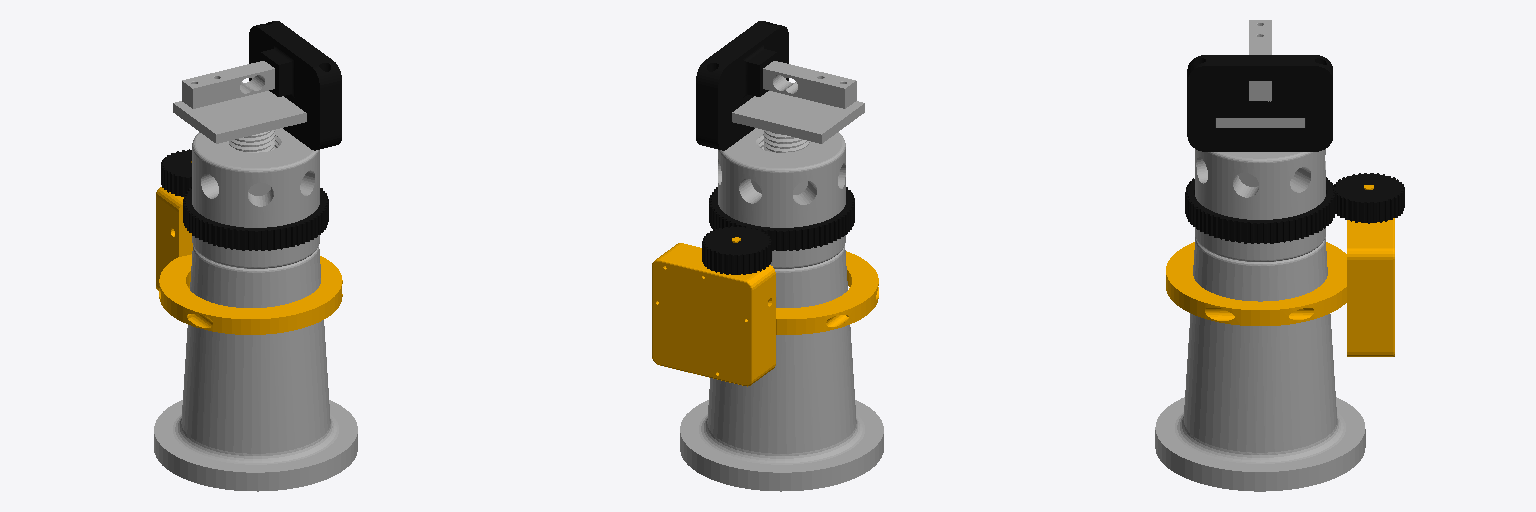
The robot description file, URDF, robot "jack":

<robot name="jack" >

<link name="base_link">
  <inertial>
    <origin xyz="0.0030071865378406538 0.00014154788942299552 0.05591757888982463" rpy="0 0 0"/>
    <mass value="4.632745962530948"/>
    <inertia ixx="0.009676" iyy="0.009676" izz="0.005056" ixy="0.0" iyz="0.0" ixz="-0.0"/>
  </inertial>
  <visual>
    <origin xyz="0 0 0" rpy="0 0 0"/>
    <geometry>
      <mesh filename="./meshes/base_link.stl" scale="0.001 0.001 0.001"/>
    </geometry>
   <material name="silver">
  <color rgba="0.700 0.700 0.700 1.000"/>
</material>
  </visual>
  <collision>
    <origin xyz="0 0 0" rpy="0 0 0"/>
    <geometry>
      <mesh filename="./meshes/base_link.stl" scale="0.001 0.001 0.001"/>
    </geometry>
  </collision>
</link>

<link name="head_1">
  <inertial>
    <origin xyz="-1.77956820907434e-06 1.1441140199030988e-06 0.03063938447984857" rpy="0 0 0"/>
    <mass value="1.5495145241048947"/>
    <inertia ixx="0.001131" iyy="0.001131" izz="0.001195" ixy="-0.0" iyz="-0.0" ixz="-0.0"/>
  </inertial>
  <visual>
    <origin xyz="-0.003007 -0.000142 -0.132021" rpy="0 0 0"/>
    <geometry>
      <mesh filename="./meshes/head_1.stl" scale="0.001 0.001 0.001"/>
    </geometry>
   <material name="silver">
  <color rgba="0.700 0.700 0.700 1.000"/>
</material>
  </visual>
  <collision>
    <origin xyz="-0.003007 -0.000142 -0.132021" rpy="0 0 0"/>
    <geometry>
      <mesh filename="./meshes/head_1.stl" scale="0.001 0.001 0.001"/>
    </geometry>
  </collision>
</link>

<link name="screw_1">
  <inertial>
    <origin xyz="-0.0031033581934499896 0.196039434773979 0.14856469037947262" rpy="0 0 0"/>
    <mass value="0.7567949663178379"/>
    <inertia ixx="0.002474" iyy="0.002516" izz="0.000156" ixy="0.0" iyz="-1e-06" ixz="5e-06"/>
  </inertial>
  <visual>
    <origin xyz="-0.006014 0.19588 -0.001163" rpy="0 0 0"/>
    <geometry>
      <mesh filename="./meshes/screw_1.stl" scale="0.001 0.001 0.001"/>
    </geometry>
   <material name="silver">
  <color rgba="0.700 0.700 0.700 1.000"/>
</material>
  </visual>
  <collision>
    <origin xyz="-0.006014 0.19588 -0.001163" rpy="0 0 0"/>
    <geometry>
      <mesh filename="./meshes/screw_1.stl" scale="0.001 0.001 0.001"/>
    </geometry>
  </collision>
</link>

<link name="bull_gear_1">
  <inertial>
    <origin xyz="-0.0030068134621596887 0.13402154788942292 0.15150819039459762" rpy="0 0 0"/>
    <mass value="0.014071732363726169"/>
    <inertia ixx="1.1e-05" iyy="1.1e-05" izz="2.2e-05" ixy="0.0" iyz="0.0" ixz="0.0"/>
  </inertial>
  <visual>
    <origin xyz="-0.006014 0.13388 -0.001163" rpy="0 0 0"/>
    <geometry>
      <mesh filename="./meshes/bull_gear_1.stl" scale="0.001 0.001 0.001"/>
    </geometry>
  <material name="black">
  <color rgba="0.1 0.1 0.1 1.000"/>
</material>
  </visual>
  <collision>
    <origin xyz="-0.006014 0.13388 -0.001163" rpy="0 0 0"/>
    <geometry>
      <mesh filename="./meshes/bull_gear_1.stl" scale="0.001 0.001 0.001"/>
    </geometry>
  </collision>
</link>

<link name="pinion_gear_1">
  <inertial>
    <origin xyz="-0.058654699221435534 -0.0005762682736991168 -0.13916623482795912" rpy="0 0 0"/>
    <mass value="0.015611687834022035"/>
    <inertia ixx="2e-06" iyy="2e-06" izz="3e-06" ixy="0.0" iyz="0.0" ixz="0.0"/>
  </inertial>
  <visual>
    <origin xyz="-0.059619 -0.061736 -0.293892" rpy="0 0 0"/>
    <geometry>
      <mesh filename="./meshes/pinion_gear_1.stl" scale="0.001 0.001 0.001"/>
    </geometry>
   <material name="black">
  <color rgba="0.1 0.1 0.1 1.000"/>
</material>
  </visual>
  <collision>
    <origin xyz="-0.059619 -0.061736 -0.293892" rpy="0 0 0"/>
    <geometry>
      <mesh filename="./meshes/pinion_gear_1.stl" scale="0.001 0.001 0.001"/>
    </geometry>
  </collision>
</link>

<link name="sensor_1">
  <inertial>
    <origin xyz="0.0036287929269774154 0.1692092556548879 0.10603625338614514" rpy="0 0 0"/>
    <mass value="0.6833126827436713"/>
    <inertia ixx="0.00126" iyy="0.000709" izz="0.001565" ixy="-0.000147" iyz="-6e-05" ixz="-1.3e-05"/>
  </inertial>
  <visual>
    <origin xyz="-0.006014 0.13388 -0.001163" rpy="0 0 0"/>
    <geometry>
      <mesh filename="./meshes/sensor_1.stl" scale="0.001 0.001 0.001"/>
    </geometry>
   <material name="yellow">
  <color rgba="1.0 0.700 0.0 1.000"/>
</material>
  </visual>
  <collision>
    <origin xyz="-0.006014 0.13388 -0.001163" rpy="0 0 0"/>
    <geometry>
      <mesh filename="./meshes/sensor_1.stl" scale="0.001 0.001 0.001"/>
    </geometry>
  </collision>
</link>

<link name="load_cell_holder_1">
  <inertial>
    <origin xyz="-0.00809316093830615 -3.896582473705639e-08 0.005959800511437602" rpy="0 0 0"/>
    <mass value="0.060378076940754415"/>
    <inertia ixx="4.7e-05" iyy="1.6e-05" izz="3.4e-05" ixy="-0.0" iyz="-0.0" ixz="0.0"/>
  </inertial>
  <visual>
    <origin xyz="-0.040039 -0.000234 -0.222021" rpy="0 0 0"/>
    <geometry>
      <mesh filename="./meshes/load_cell_holder_1.stl" scale="0.001 0.001 0.001"/>
    </geometry>
   <material name="black">
   <color rgba="0.1 0.1 0.1 1.000"/>
</material>
  </visual>
  <collision>
    <origin xyz="-0.040039 -0.000234 -0.222021" rpy="0 0 0"/>
    <geometry>
      <mesh filename="./meshes/load_cell_holder_1.stl" scale="0.001 0.001 0.001"/>
    </geometry>
  </collision>
</link>

<link name="load_cell_1">
  <inertial>
    <origin xyz="-0.03787910394686526 0.01611896104433127 -0.010349809605404992" rpy="0 0 0"/>
    <mass value="0.029241655696833388"/>
    <inertia ixx="1e-06" iyy="1.8e-05" izz="1.8e-05" ixy="0.0" iyz="0.0" ixz="-0.0"/>
  </inertial>
  <visual>
    <origin xyz="-0.037451 0.015885 -0.248871" rpy="0 0 0"/>
    <geometry>
      <mesh filename="./meshes/load_cell_1.stl" scale="0.001 0.001 0.001"/>
    </geometry>
   <material name="silver">
  <color rgba="0.700 0.700 0.700 1.000"/>
</material>
  </visual>
  <collision>
    <origin xyz="-0.037451 0.015885 -0.248871" rpy="0 0 0"/>
    <geometry>
      <mesh filename="./meshes/load_cell_1.stl" scale="0.001 0.001 0.001"/>
    </geometry>
  </collision>
</link>

<joint name="head" type="revolute">
  <origin xyz="0.003007 0.000142 0.132021" rpy="0 0 0"/>
  <parent link="base_link"/>
  <child link="head_1"/>
  <axis xyz="0.0 0.0 -1.0"/>
   <limit upper="100000" lower="" effort="100" velocity="100"/>
</joint>

<joint name="screw" type="prismatic">
  <origin xyz="0.003007 -0.196022 00.0" rpy="0 0 0"/>
  <parent link="base_link"/>
  <child link="screw_1"/>
  <axis xyz="-0.0 -0.0 1.0"/>
  <limit upper="0.12" lower="0.0" effort="100" velocity="100"/>
</joint>

<joint name="Rigid 3" type="fixed">
  <origin xyz="0.003007 -0.134022 -0.130858" rpy="0 0 0"/>
  <parent link="head_1"/>
  <child link="bull_gear_1"/>
</joint>

<joint name="pinion_gear" type="continuous">
  <origin xyz="0.053605 0.195616 0.291" rpy="0 0 0"/>
  <parent link="sensor_1"/>
  <child link="pinion_gear_1"/>
  <axis xyz="-0.0 0.0 1.0"/>
</joint>

<joint name="Rigid 12" type="fixed">
  <origin xyz="0.003007 -0.134022 0.001" rpy="0 0 0"/>
  <parent link="base_link"/>
  <child link="sensor_1"/>
</joint>

<joint name="Rigid 13" type="fixed">
  <origin xyz="0.034025 0.196114 0.220858" rpy="0 0 0"/>
  <parent link="screw_1"/>
  <child link="load_cell_holder_1"/>
</joint>

<joint name="Rigid 14" type="fixed">
  <origin xyz="-0.002588 -0.016119 0.02685" rpy="0 0 0"/>
  <parent link="load_cell_holder_1"/>
  <child link="load_cell_1"/>
</joint>

</robot>

--- Render facts (derived) ---
Views: 3 orthographic renders of the robot side by side, from view 1: azimuth 30°, elevation 25°; view 2: azimuth 150°, elevation 25°; view 3: azimuth 270°, elevation 25°.
Robot: jack — 8 links, 7 joints (1 revolute, 1 continuous, 1 prismatic, 4 fixed); root link base_link; default pose: every joint at zero.
Visible links, largest first — view 1: base_link, head_1, sensor_1, load_cell_holder_1, screw_1, bull_gear_1, load_cell_1, pinion_gear_1; view 2: base_link, sensor_1, head_1, load_cell_holder_1, screw_1, pinion_gear_1, bull_gear_1, load_cell_1; view 3: base_link, sensor_1, load_cell_holder_1, head_1, bull_gear_1, pinion_gear_1, load_cell_1, screw_1.
Boxes of the visible links, box(x1,y1,x2,y2) form: base_link: box(154, 246, 357, 491); head_1: box(192, 128, 319, 268); sensor_1: box(156, 161, 342, 334); load_cell_holder_1: box(249, 21, 341, 150); screw_1: box(173, 91, 306, 152); bull_gear_1: box(183, 187, 328, 250); load_cell_1: box(182, 61, 274, 108); pinion_gear_1: box(161, 149, 191, 196); base_link: box(680, 246, 883, 491); sensor_1: box(652, 237, 878, 386); head_1: box(718, 128, 845, 268); load_cell_holder_1: box(696, 21, 788, 150); screw_1: box(732, 91, 864, 152); pinion_gear_1: box(702, 226, 771, 274); bull_gear_1: box(709, 187, 854, 250); load_cell_1: box(763, 61, 856, 108); base_link: box(1155, 237, 1365, 491); sensor_1: box(1166, 185, 1394, 356); load_cell_holder_1: box(1187, 55, 1332, 151); head_1: box(1195, 149, 1325, 261); bull_gear_1: box(1185, 177, 1334, 243); pinion_gear_1: box(1333, 173, 1404, 223); load_cell_1: box(1249, 20, 1271, 101); screw_1: box(1216, 118, 1304, 127).
Bounding box of the posed robot: 0.1179 × 0.1399 × 0.2518 m (x, y, z).
Meshes: 8 distinct files referenced, 8 mesh visuals loaded (8 binary STL).
